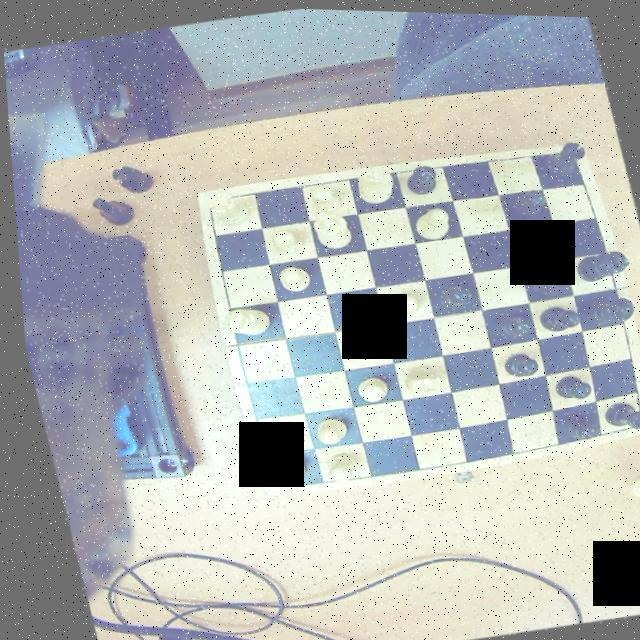chess-table-corners: (256, 467, 286, 494), (194, 189, 220, 214), (553, 138, 584, 158), (622, 406, 640, 428)
